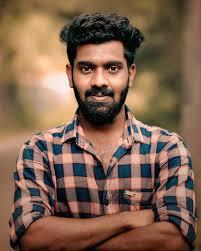person: (52, 2, 143, 125)
